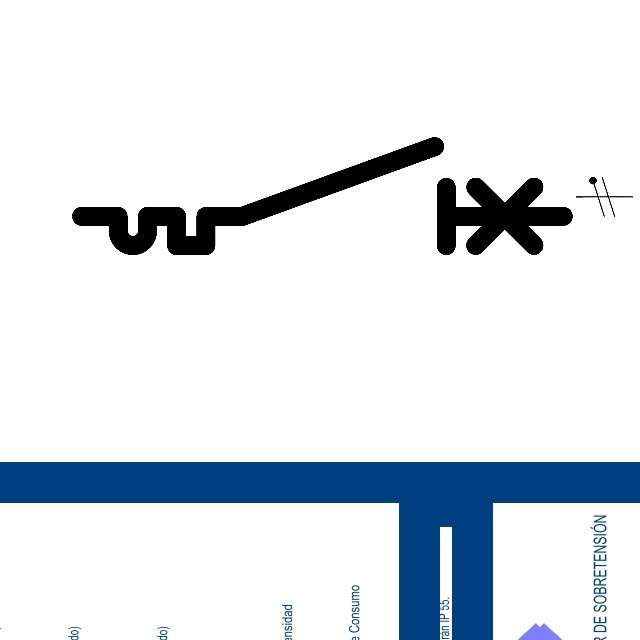interruptor_termomagnetico: (69, 134, 576, 258)
